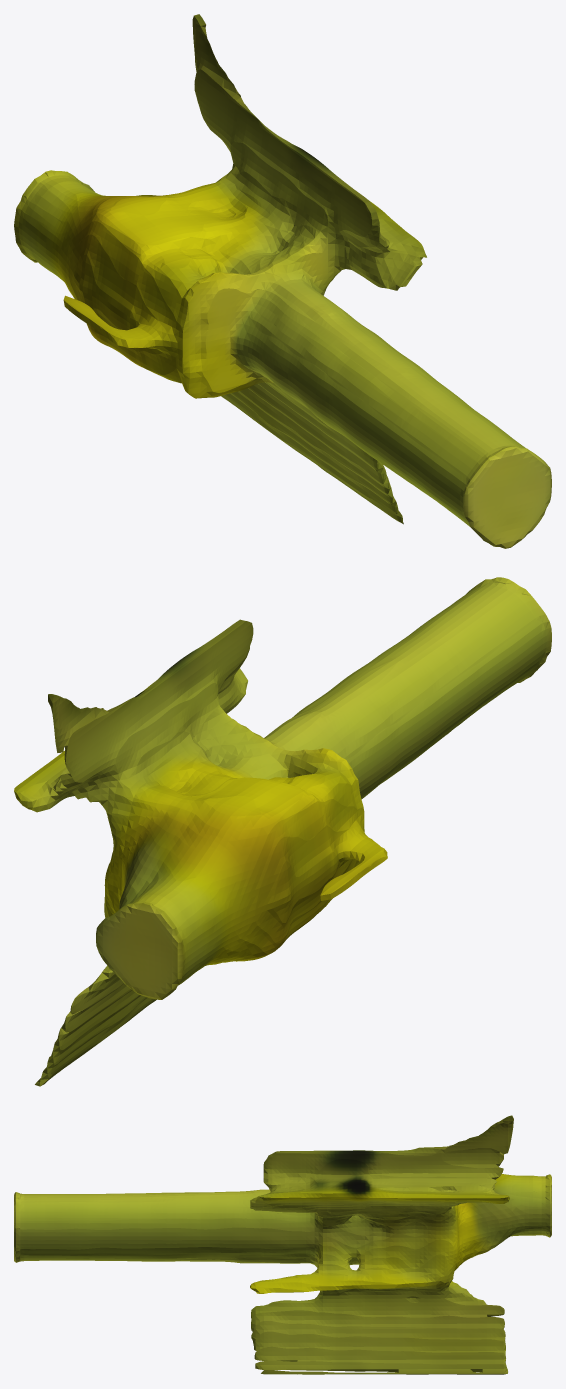
The model's file is Banan missile_1749650286.obj.
3 renders of one model, top to bottom at view 1: azimuth 30°, elevation 25°; view 2: azimuth 150°, elevation 25°; view 3: azimuth 270°, elevation 25°, orthographic. The views are drawn at different scales.
Bounding box in the file's own units: 0.6881 × 1.03 × 1.98.
